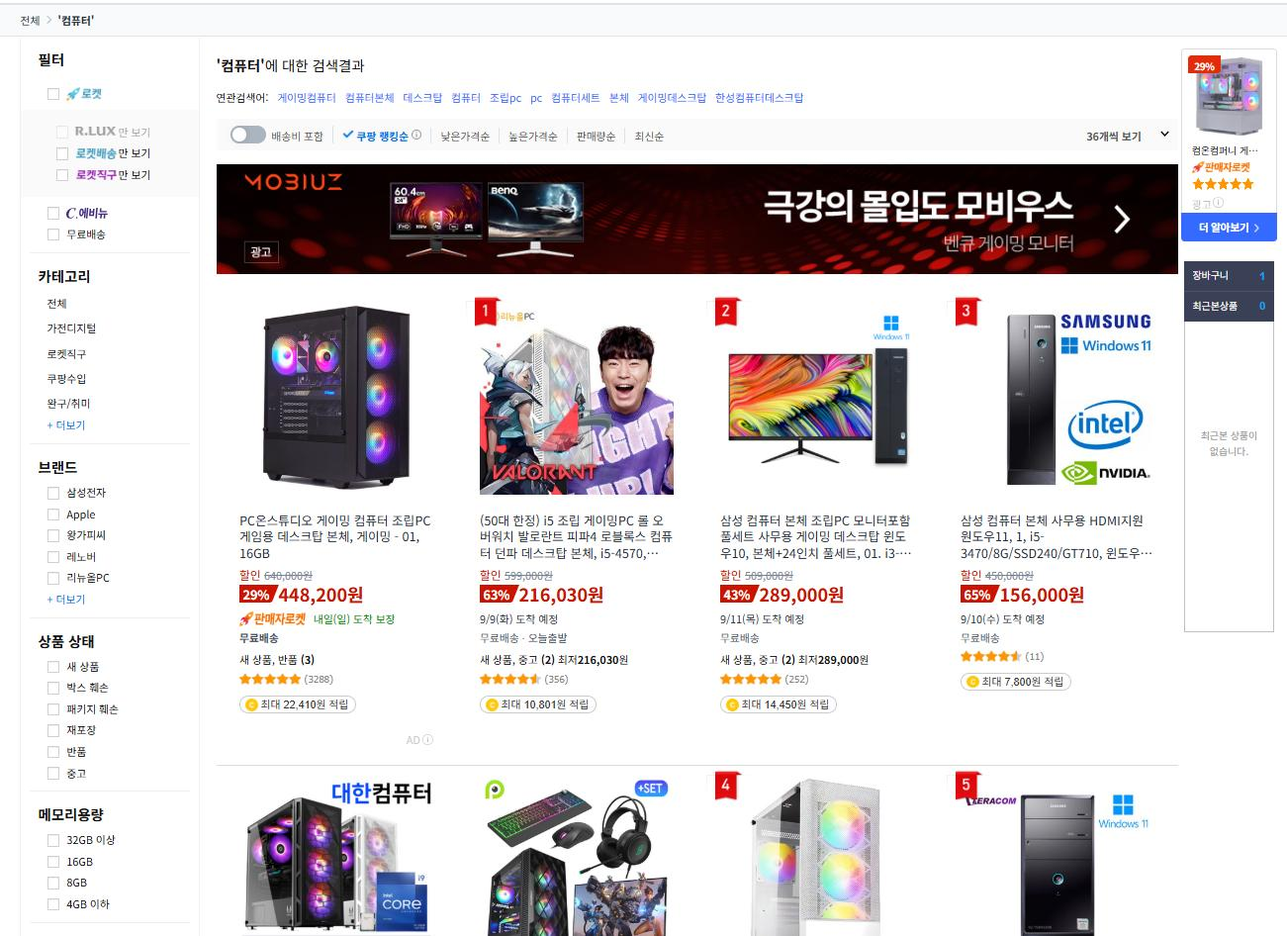button: (1186, 212, 1282, 245), (1187, 287, 1275, 310), (718, 86, 818, 105), (1184, 260, 1269, 281), (342, 127, 421, 147), (42, 345, 95, 370), (503, 124, 582, 140), (543, 89, 606, 107), (626, 126, 687, 144), (336, 86, 387, 107), (277, 83, 325, 105), (38, 318, 95, 336), (639, 86, 698, 103), (442, 126, 493, 144), (401, 89, 441, 110), (45, 394, 99, 406), (449, 88, 480, 107), (45, 373, 86, 387), (582, 126, 615, 141), (492, 88, 527, 102), (44, 298, 78, 312), (52, 418, 82, 431), (41, 594, 79, 602), (611, 92, 632, 103)
checkbox: (226, 122, 318, 144), (1078, 127, 1174, 147), (55, 119, 157, 136), (54, 140, 153, 157), (49, 697, 126, 717), (44, 83, 106, 105), (48, 482, 113, 502), (45, 198, 109, 216), (42, 223, 106, 240), (48, 888, 120, 903), (54, 170, 151, 181), (48, 830, 119, 845), (45, 505, 100, 524), (48, 657, 103, 674), (52, 526, 106, 543), (49, 722, 103, 738), (42, 741, 89, 758), (48, 678, 107, 691), (44, 876, 105, 888), (42, 854, 90, 869), (48, 550, 96, 563), (49, 571, 110, 581), (45, 763, 86, 776)
